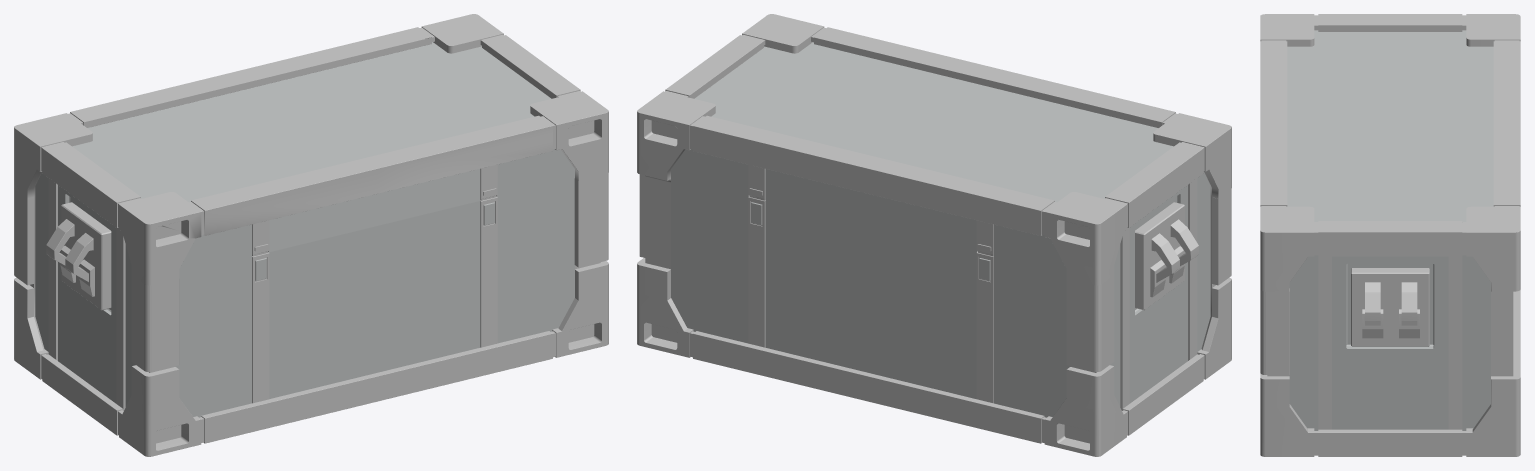
The model's file is frame_case.fbx.
The picture shows the model from 3 angles, left to right: view 1: azimuth 30°, elevation 25°; view 2: azimuth 150°, elevation 25°; view 3: azimuth 270°, elevation 25°; orthographic projection. The views are drawn at different scales.
Visible parts, largest first — view 1: Cube.093, Cube.100; view 2: Cube.093, Cube.100; view 3: Cube.100, Cube.093.
Part boxes in pixels (x1,y1,x2,y2): Cube.093: (14, 173, 608, 456); Cube.100: (14, 14, 608, 285); Cube.093: (637, 174, 1231, 456); Cube.100: (637, 14, 1231, 285); Cube.100: (1260, 14, 1520, 291); Cube.093: (1260, 268, 1520, 456).
Size of the model in its own units: 242 by 108 by 113.
